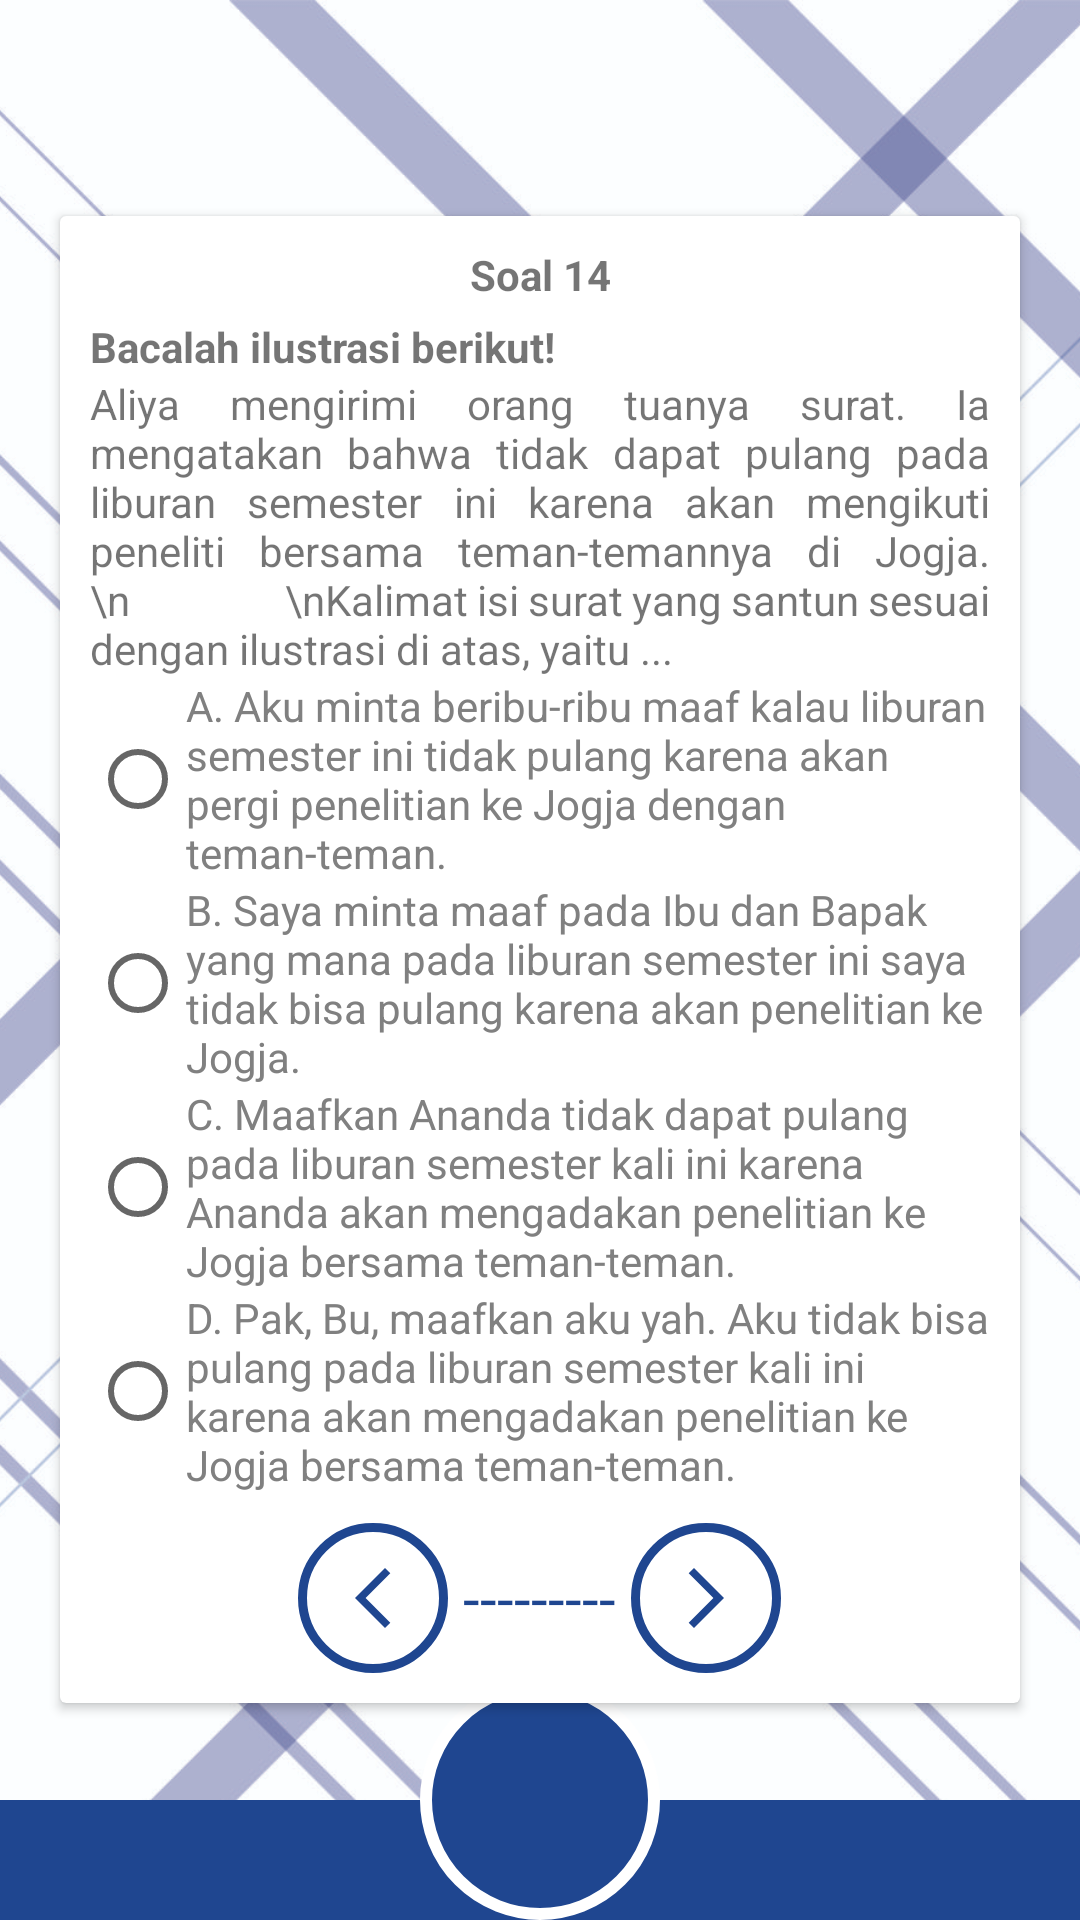

Icon click points for this 1080 × 1920 phone screenshot, format point (x, y):
arrow back: point (373, 1598)
arrow forward: point (706, 1598)
